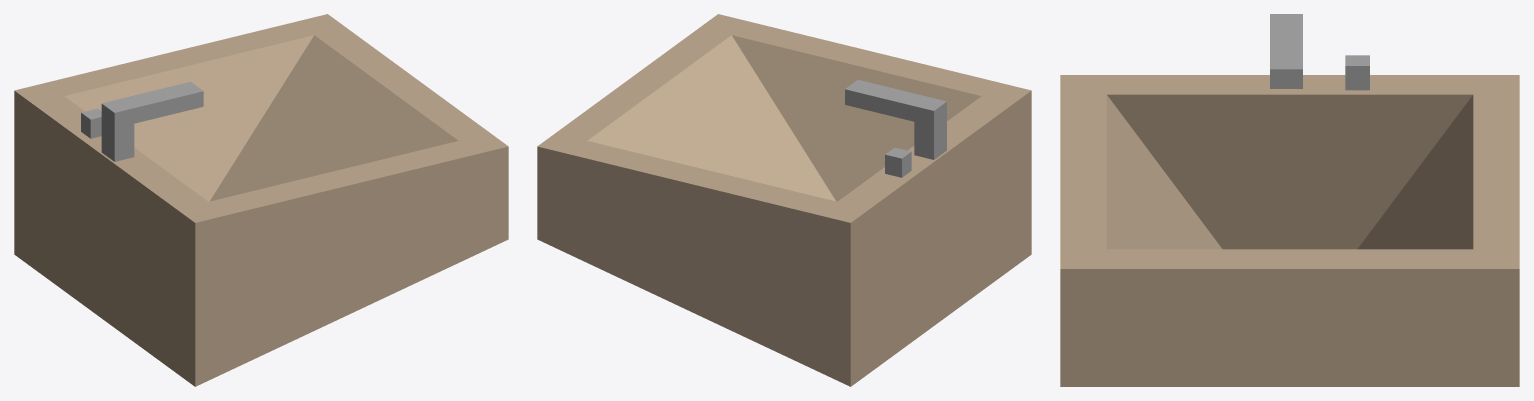
File: Pia.fbx
The picture shows the model from 3 angles, left to right: view 1: azimuth 30°, elevation 25°; view 2: azimuth 150°, elevation 25°; view 3: azimuth 270°, elevation 25°; orthographic projection. The views are drawn at different scales.
Parts seen in each view (by area): view 1: Cube; view 2: Cube; view 3: Cube.
Boxes of the visible parts, x1=… form: Cube: x1=14, y1=14, x2=508, y2=386; Cube: x1=537, y1=14, x2=1031, y2=386; Cube: x1=1060, y1=14, x2=1519, y2=386.
Bounding box in the file's own units: 20 × 12.99 × 20.
